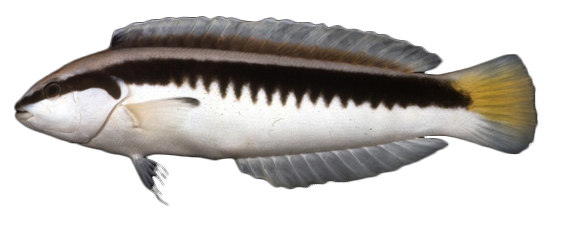fish: (15, 15, 538, 206)
